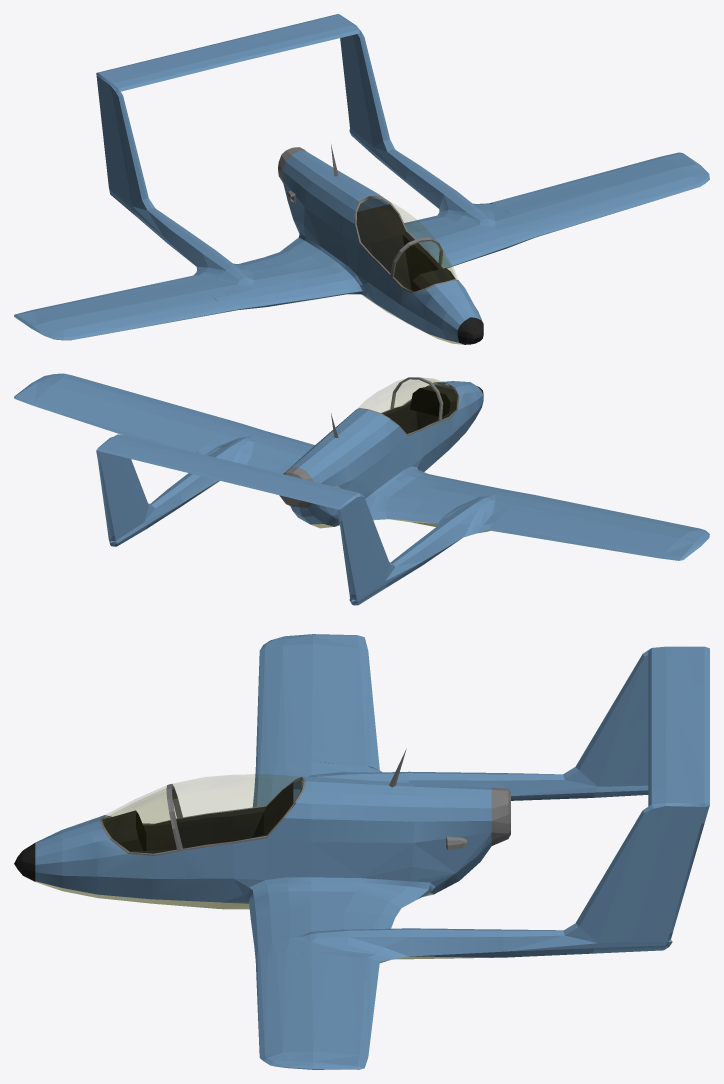
The model's file is aircraft 5 with control surfaces.glb.
The picture shows the model from 3 angles, top to bottom: view 1: azimuth 30°, elevation 25°; view 2: azimuth 150°, elevation 25°; view 3: azimuth 270°, elevation 25°; orthographic projection. The views are drawn at different scales.
Parts seen in each view (by area): view 1: fuselage, outer wing left, outer wing right, elevator, left aileron, canopy, right aileron, rudder right, rudder left, instrument panel; view 2: fuselage, outer wing left, outer wing right, elevator, left aileron, right aileron, instrument panel, rudder left, rudder right, canopy; view 3: fuselage, outer wing right, outer wing left, elevator, canopy, right aileron, rudder left, left aileron, instrument panel.
Part boxes in pixels (x1,y1,x2,y2): fuselage: [96, 14, 549, 344]; outer wing left: [490, 152, 709, 233]; outer wing right: [14, 275, 228, 340]; elevator: [100, 15, 345, 79]; left aileron: [532, 155, 672, 196]; canopy: [354, 195, 440, 275]; right aileron: [26, 283, 165, 315]; rudder right: [98, 89, 114, 185]; rudder left: [340, 37, 356, 126]; instrument panel: [411, 268, 455, 291]; fuselage: [96, 377, 547, 605]; outer wing left: [14, 373, 228, 452]; outer wing right: [489, 497, 709, 560]; elevator: [100, 441, 345, 508]; left aileron: [26, 395, 166, 443]; right aileron: [529, 524, 673, 559]; instrument panel: [410, 385, 456, 416]; rudder left: [98, 457, 122, 535]; rudder right: [339, 516, 364, 594]; canopy: [358, 377, 442, 435]; fuselage: [14, 646, 709, 969]; outer wing right: [256, 634, 379, 770]; outer wing left: [256, 953, 379, 1069]; elevator: [679, 648, 709, 802]; canopy: [169, 774, 306, 849]; right aileron: [345, 643, 376, 741]; rudder left: [649, 823, 704, 934]; left aileron: [345, 979, 376, 1060]; instrument panel: [103, 810, 146, 851].
Bounding box in the file's own units: 13.52 × 2.62 × 9.16.
